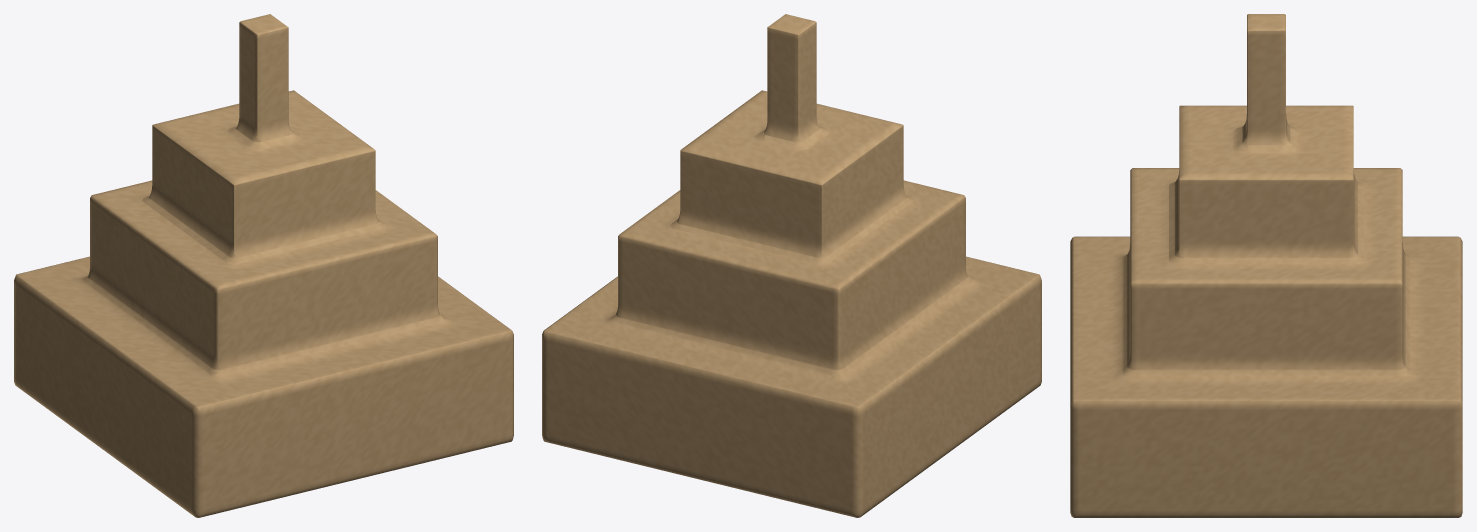
File: temple.glb
3 views of the same model, side by side, from view 1: azimuth 30°, elevation 25°; view 2: azimuth 150°, elevation 25°; view 3: azimuth 270°, elevation 25° (orthographic). The views are drawn at different scales.
Parts seen in each view (by area): view 1: temple; view 2: temple; view 3: temple.
Boxes of the visible parts, x1,y1,x2,y2 form: temple: (14, 14, 513, 517); temple: (542, 14, 1041, 517); temple: (1070, 14, 1462, 517).
Bounding box in the file's own units: 3.6 × 4.2 × 3.6.
